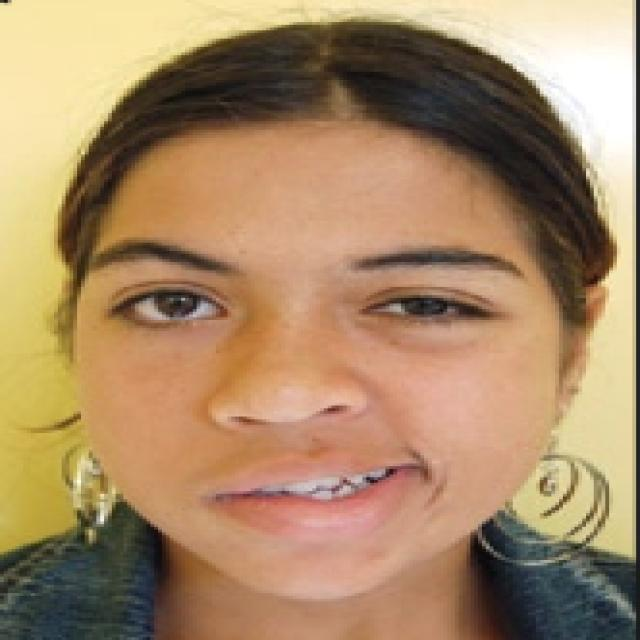stroke_face: (69, 22, 616, 605)
